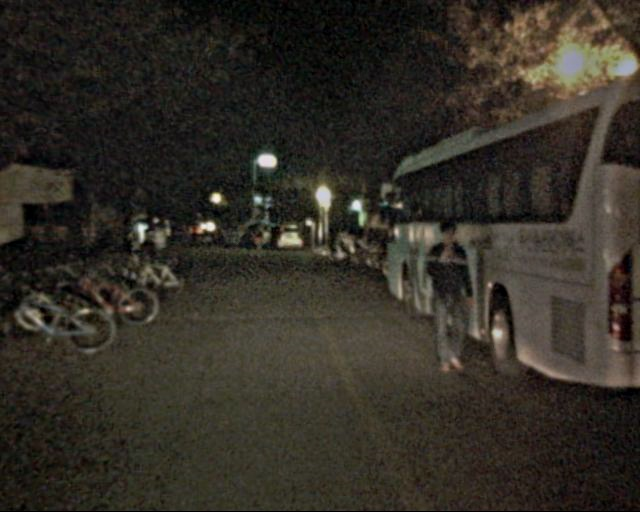person: (418, 212, 482, 380), (148, 217, 174, 281)
